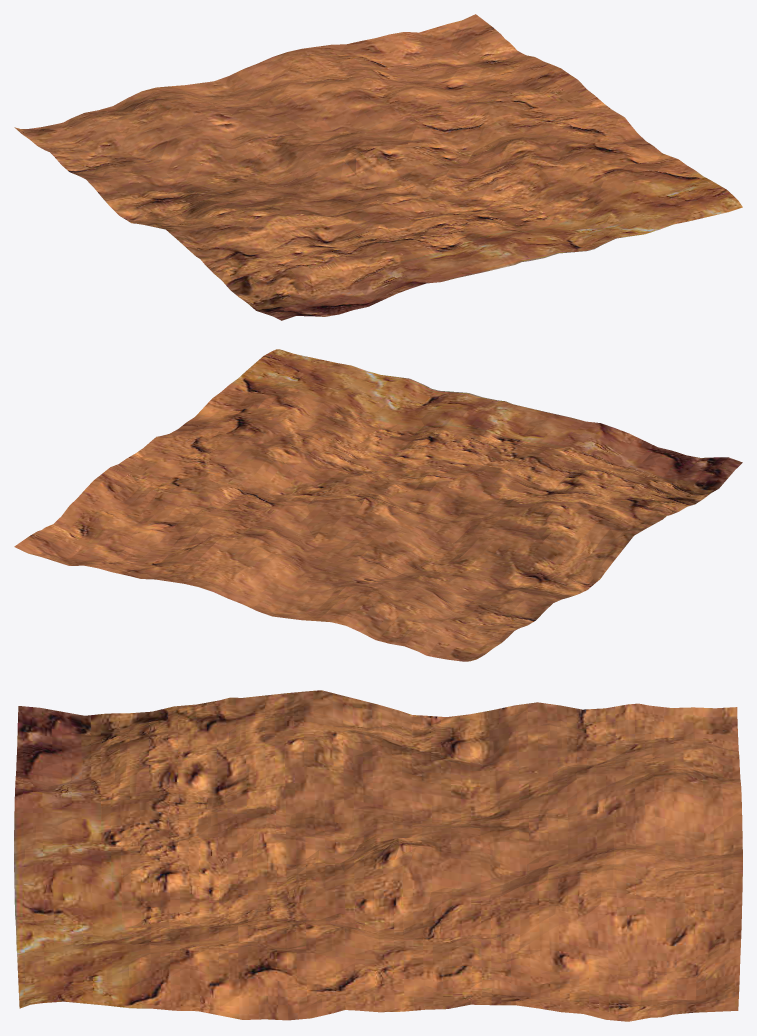
File: terrain_textured.dae
3 renders of one model, top to bottom at view 1: azimuth 30°, elevation 25°; view 2: azimuth 150°, elevation 25°; view 3: azimuth 270°, elevation 25°, orthographic. The views are drawn at different scales.
Visible parts, largest first — view 1: Terrain; view 2: Terrain; view 3: Terrain.
Boxes of the visible parts, x1=… form: Terrain: x1=14, y1=14, x2=742, y2=320; Terrain: x1=14, y1=349, x2=742, y2=661; Terrain: x1=14, y1=690, x2=742, y2=1021.
Bounding box in the file's own units: 26.85 × 26.85 × 1.39.
